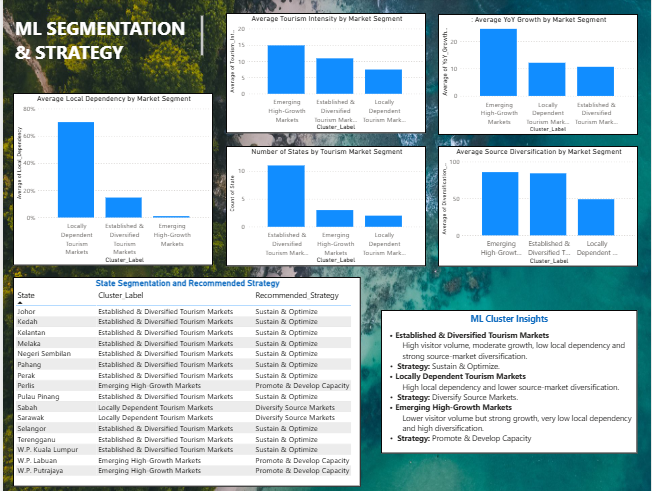

What the dashboard file says about the page in this screenshot:
{"tool":"powerbi","page":{"name":"05 ML Segmentation & Strategy","canvas":[2010,1550],"ordinal":4},"visuals":[{"type":"columnChart","title":"Number of States by Tourism Market Segment","fields":{"Category":["NADI_ML_Cluster_Output.Cluster_Label"],"Y":["CountNonNull(NADI_ML_Cluster_Output.State)"]},"box":[690,457.5,620,372.5],"z":0},{"type":"tableEx","title":"State Segmentation and Recommended Strategy","fields":{"Values":["NADI_ML_Cluster_Output.State","NADI_ML_Cluster_Output.Cluster_Label","NADI_ML_Cluster_Output.Recommended_Strategy"]},"box":[32.5,865,1077.5,650],"z":1000},{"type":"clusteredColumnChart","title":"Average Tourism Intensity by Market Segment","fields":{"Category":["NADI_ML_Cluster_Output.Cluster_Label"],"Y":["Avg(NADI_ML_Cluster_Output.Tourism_Intensity)"]},"box":[690,47.5,620,372.5],"z":2000},{"type":"clusteredColumnChart","title":":  Average YoY Growth by Market Segment","fields":{"Category":["NADI_ML_Cluster_Output.Cluster_Label"],"Y":["Avg(NADI_ML_Cluster_Output.YoY_Growth_2025)"]},"box":[1347.5,50,620,375],"z":3000},{"type":"clusteredColumnChart","title":"Average Local Dependency by Market Segment","fields":{"Category":["NADI_ML_Cluster_Output.Cluster_Label"],"Y":["Avg(ML_Features.Local_Dependency)"]},"box":[32.5,295,620,535],"z":4000},{"type":"clusteredColumnChart","title":"Average Source Diversification by Market Segment","fields":{"Category":["NADI_ML_Cluster_Output.Cluster_Label"],"Y":["Avg(NADI_ML_Cluster_Output.Diversification_Score)"]},"box":[1347.5,457.5,620,374],"z":5000},{"type":"textbox","box":[1172.5,967.5,795,445],"z":6000},{"type":"textbox","box":[32.5,50,595,145],"z":7000}]}

Visuals, with their boxes in screenshot pixels (x1, y1, x2, y2), scaled from the page's 2010x1550 canvas onto the 652x491 screenshot:
"Number of States by Tourism Market Segment" columnChart: 224:145:425:263
"State Segmentation and Recommended Strategy" tableEx: 11:274:360:480
"Average Tourism Intensity by Market Segment" clusteredColumnChart: 224:15:425:133
":  Average YoY Growth by Market Segment" clusteredColumnChart: 437:16:638:135
"Average Local Dependency by Market Segment" clusteredColumnChart: 11:93:212:263
"Average Source Diversification by Market Segment" clusteredColumnChart: 437:145:638:263
textbox: 380:306:638:447
textbox: 11:16:204:62
